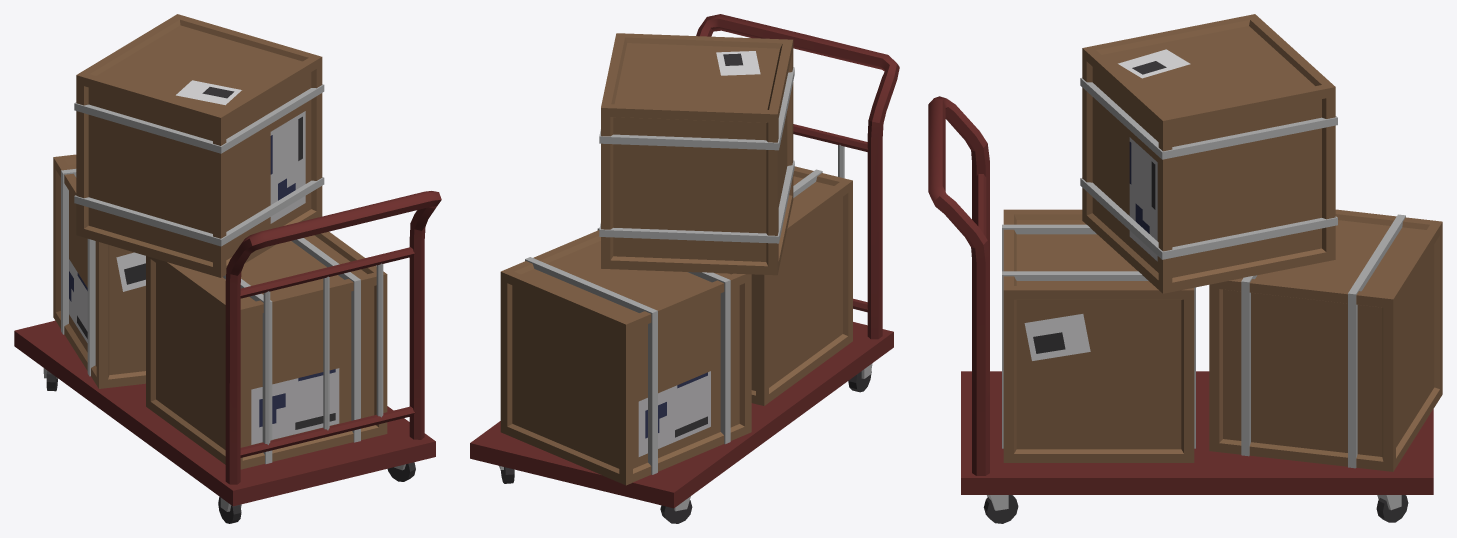
The model's file is SM_box_tray.gltf.
The picture shows the model from 3 angles, left to right: view 1: azimuth 30°, elevation 25°; view 2: azimuth 150°, elevation 25°; view 3: azimuth 270°, elevation 25°; orthographic projection. The views are drawn at different scales.
Visible parts, largest first — view 1: SM_box_tray; view 2: SM_box_tray; view 3: SM_box_tray.
Boxes of the visible parts, x1,y1,x2,y2 form: SM_box_tray: (14, 14, 441, 523); SM_box_tray: (470, 14, 899, 523); SM_box_tray: (928, 14, 1442, 523).
Bounding box in the file's own units: 0.905 × 1.42 × 1.66.
Materials: 1 (1 with a texture image).
